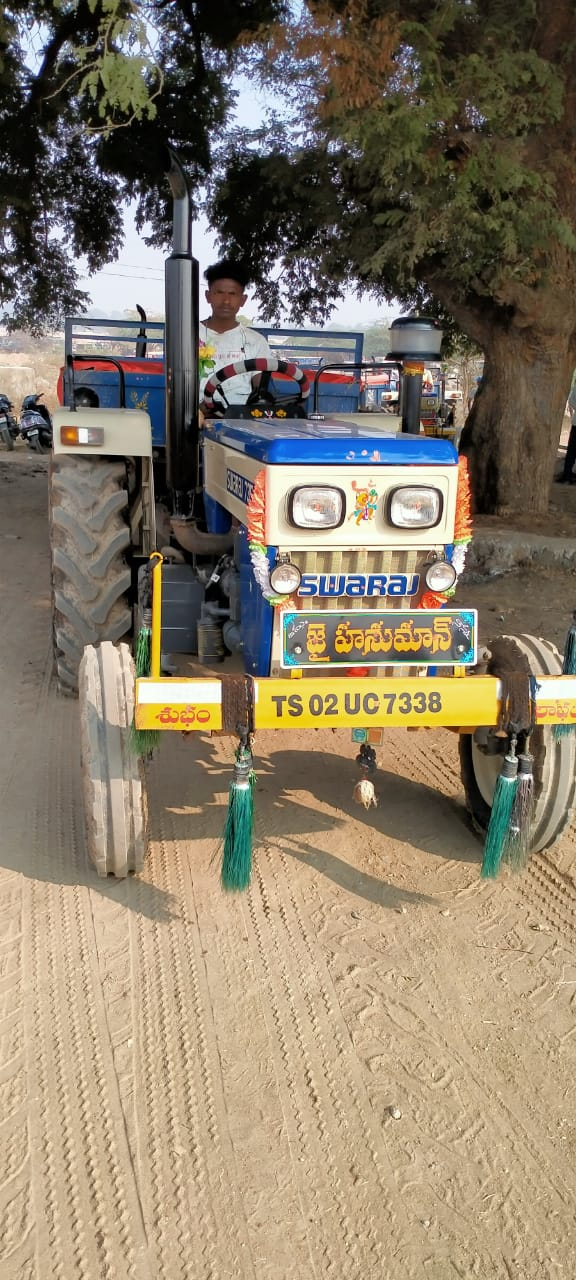license_plate: (267, 682, 459, 723)
